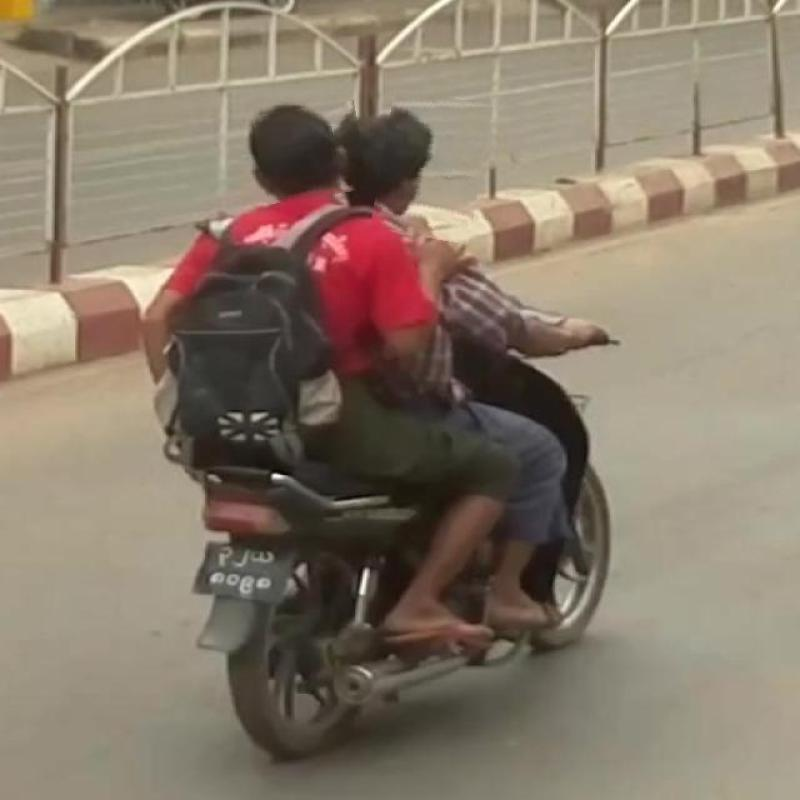nohelmet: (376, 92, 488, 242), (255, 104, 364, 202)
